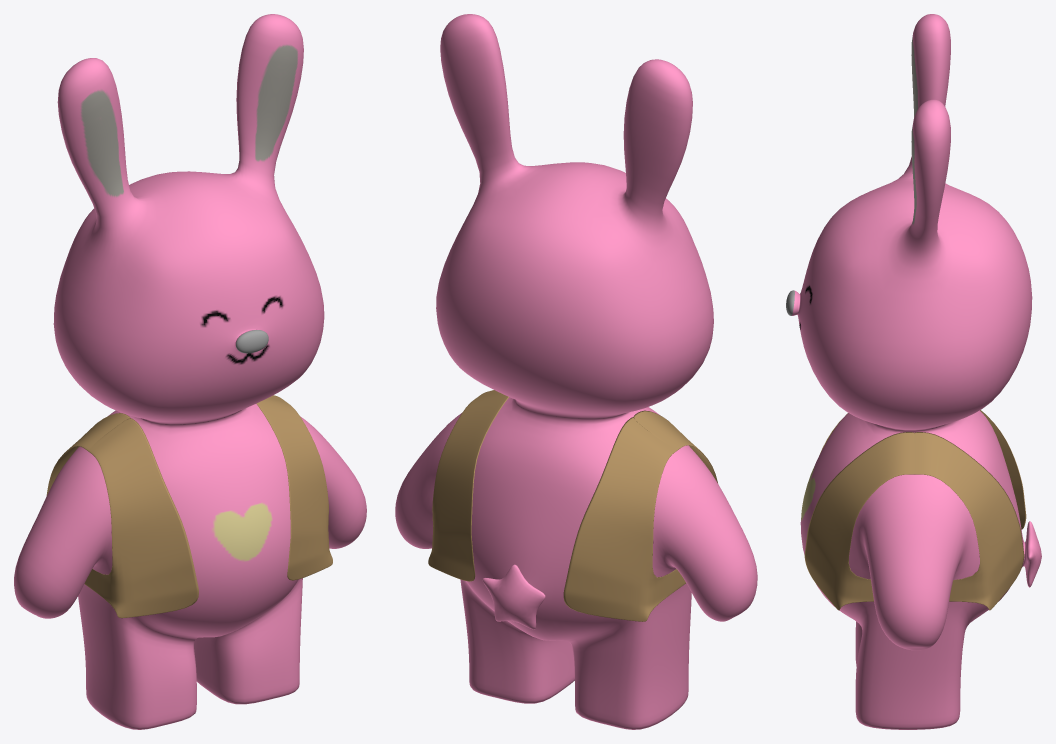
Rendered from bunny.glb.
3 renders of one model, left to right at view 1: azimuth 30°, elevation 25°; view 2: azimuth 150°, elevation 25°; view 3: azimuth 270°, elevation 25°, orthographic. The views are drawn at different scales.
Visible parts, largest first — view 1: Cube, Plane, Plane.001; view 2: Cube, Plane, Plane.001; view 3: Cube, Plane.001, Plane.
Boxes of the visible parts, x1,y1,x2,y2 form: Cube: [14, 14, 366, 729]; Plane: [46, 413, 198, 618]; Plane.001: [256, 395, 332, 580]; Cube: [395, 14, 757, 729]; Plane: [563, 410, 717, 621]; Plane.001: [428, 390, 508, 581]; Cube: [786, 14, 1041, 729]; Plane.001: [804, 432, 1024, 610]; Plane: [819, 410, 1026, 529].
Bounding box in the file's own units: 1.08 × 1.94 × 0.716.
4 materials, 1 textured.
